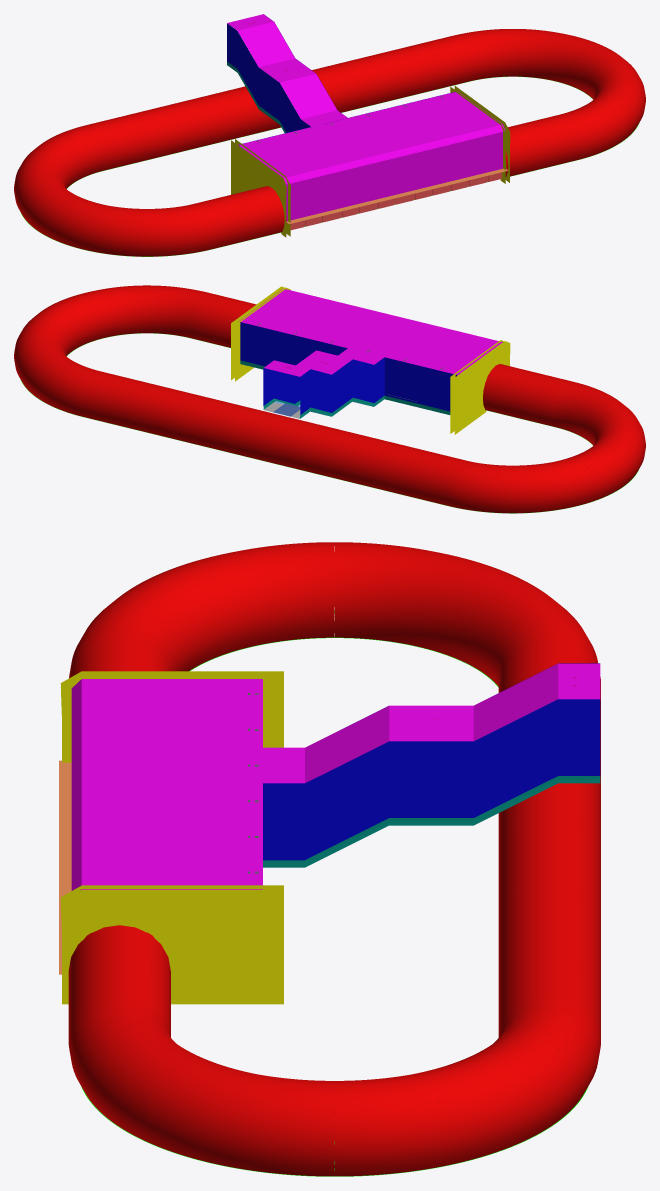
Rendered from station.fbx.
3 views of the same model, one above another, from view 1: azimuth 30°, elevation 25°; view 2: azimuth 150°, elevation 25°; view 3: azimuth 270°, elevation 25° (orthographic). The views are drawn at different scales.
Visible parts, largest first — view 1: station; view 2: station; view 3: station.
Part boxes in pixels (x1,y1,x2,y2): station: (14, 14, 645, 256); station: (14, 285, 645, 513); station: (59, 542, 600, 1176).
Size of the model in its own units: 32610 by 5120 by 12839.
